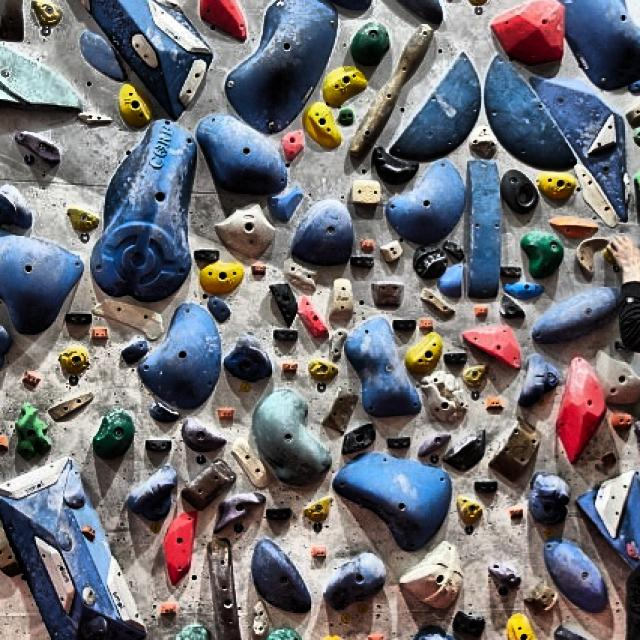Hold: (227, 0, 337, 134), (349, 24, 434, 159), (335, 454, 452, 551), (484, 56, 575, 168), (391, 53, 482, 161), (137, 303, 221, 410), (0, 229, 83, 335), (344, 317, 421, 418), (254, 389, 332, 487), (195, 113, 287, 195), (560, 0, 640, 89), (386, 158, 467, 243), (0, 39, 81, 111), (556, 356, 607, 464), (464, 158, 503, 299), (533, 285, 620, 346), (491, 0, 565, 66), (544, 541, 607, 614), (400, 541, 463, 613), (251, 539, 311, 614), (290, 198, 355, 266), (325, 553, 386, 613), (215, 203, 275, 261), (149, 0, 212, 54), (209, 538, 242, 640), (419, 368, 470, 431), (490, 421, 539, 484), (126, 464, 177, 524), (33, 542, 75, 614), (93, 299, 162, 341), (575, 164, 619, 227), (180, 460, 234, 511), (0, 460, 68, 499), (108, 559, 145, 630), (162, 511, 197, 586), (463, 325, 521, 370), (596, 350, 640, 406), (222, 334, 272, 383), (518, 352, 560, 410), (530, 470, 571, 527), (80, 32, 126, 81), (213, 491, 264, 533), (230, 439, 273, 488), (92, 410, 134, 460), (15, 406, 51, 461), (521, 233, 563, 279), (323, 66, 368, 108), (14, 129, 60, 170), (200, 0, 246, 41), (303, 102, 343, 149), (350, 23, 391, 68), (373, 146, 419, 186), (443, 431, 487, 472), (182, 416, 225, 455), (406, 334, 445, 377), (502, 170, 539, 215), (323, 388, 359, 434), (117, 84, 153, 129), (200, 260, 243, 297), (0, 185, 32, 230), (267, 183, 303, 222), (178, 61, 207, 109), (577, 236, 610, 278), (413, 245, 451, 281), (297, 296, 329, 338), (524, 577, 560, 613), (269, 282, 297, 328), (394, 0, 443, 26), (329, 276, 353, 328), (50, 392, 93, 421), (0, 530, 26, 577), (434, 261, 466, 299), (538, 171, 577, 201), (550, 216, 599, 239), (587, 116, 616, 154), (284, 260, 317, 293), (421, 288, 455, 320), (341, 424, 376, 455), (488, 562, 521, 593), (455, 494, 485, 527), (63, 467, 86, 509), (279, 129, 305, 164), (66, 206, 99, 233), (470, 125, 497, 158), (59, 347, 89, 376), (373, 279, 403, 308), (0, 0, 21, 41), (132, 34, 157, 68), (505, 281, 545, 302), (506, 614, 538, 640), (454, 611, 484, 638), (352, 180, 382, 207), (30, 0, 62, 25), (418, 433, 451, 457), (303, 497, 332, 524), (120, 338, 149, 365), (252, 601, 273, 638), (326, 328, 347, 365), (149, 401, 182, 424), (308, 358, 338, 383), (499, 296, 527, 322), (610, 410, 635, 437), (173, 623, 210, 640), (463, 364, 488, 389), (206, 297, 230, 323), (75, 110, 114, 126), (380, 239, 403, 264), (554, 625, 591, 640), (442, 239, 466, 261), (263, 628, 302, 640), (349, 252, 374, 270), (264, 508, 293, 523), (63, 311, 92, 326), (144, 439, 173, 454), (499, 264, 523, 282), (192, 248, 219, 264), (273, 329, 297, 346), (386, 436, 412, 451), (473, 481, 499, 496), (337, 105, 355, 126), (443, 352, 467, 367), (21, 371, 41, 389), (90, 326, 110, 344), (392, 317, 416, 332), (626, 101, 640, 126), (158, 601, 177, 619), (485, 397, 505, 412), (359, 237, 376, 254), (473, 303, 490, 318), (80, 524, 95, 541), (311, 545, 328, 560), (419, 317, 434, 334), (281, 361, 297, 376), (509, 506, 524, 521), (251, 263, 266, 278), (216, 409, 234, 421), (91, 617, 106, 631), (601, 454, 616, 467), (628, 79, 640, 95), (632, 126, 640, 147), (83, 589, 95, 603), (59, 535, 71, 548), (0, 435, 9, 452), (367, 632, 385, 640)
Macro: (90, 119, 197, 303)
Volume: (0, 461, 148, 640), (83, 0, 212, 121), (530, 77, 625, 226), (576, 472, 640, 571)
start_tag: (147, 523, 159, 535), (233, 523, 245, 535), (195, 455, 207, 466), (78, 233, 90, 243), (68, 374, 78, 386), (240, 382, 251, 392), (41, 26, 51, 36), (23, 155, 33, 165), (312, 524, 323, 533), (430, 454, 439, 464), (472, 391, 481, 401), (317, 383, 328, 391), (475, 6, 484, 14)
